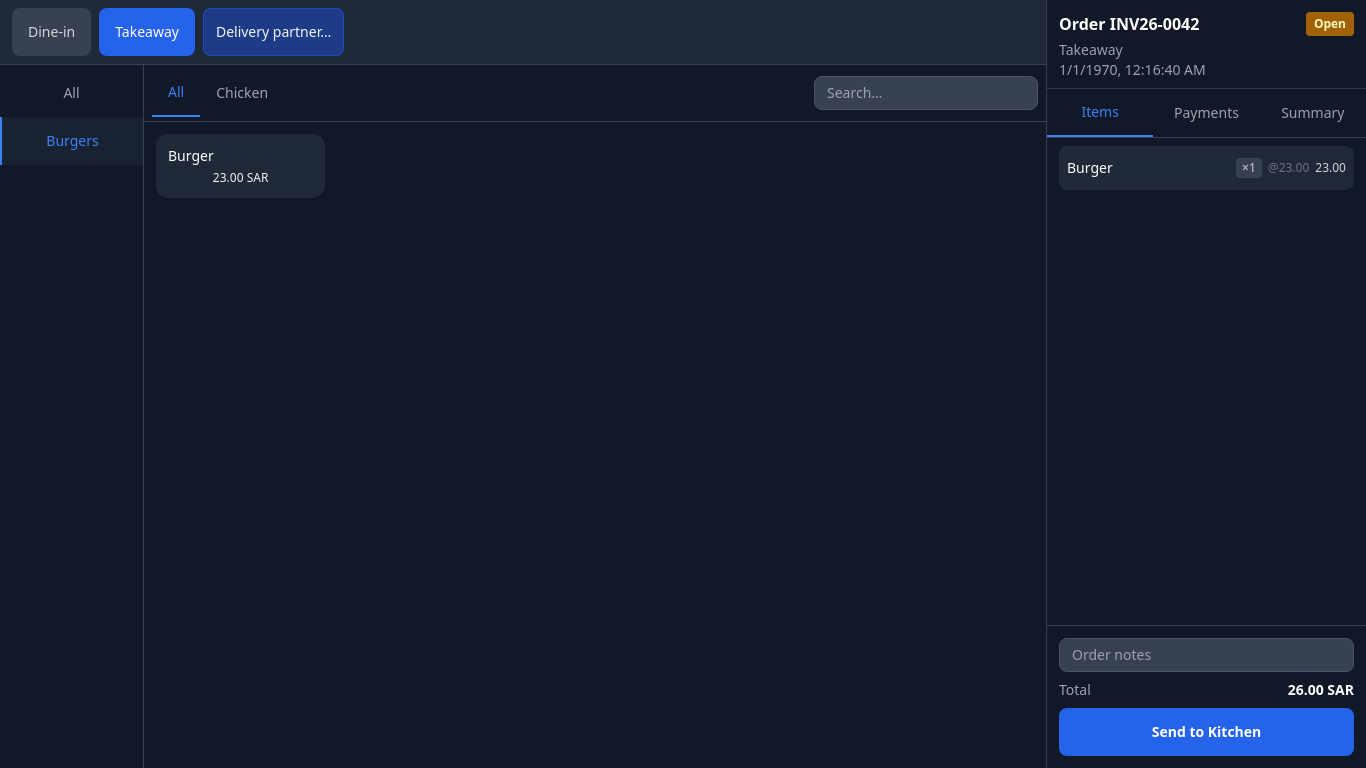
Scenario: OrderPage — type/table switch on open orders (#109) › open clean order: Dine-in opens picker, selecting free table PATCHes dine_in + tableId and closes picker
The width and height of the screenshot is (1366, 768).
Expected: the heading "Order INV26-0042" is shown, [1059,12,1199,36]
Switch to dine-in: opens the picker without PATCHing yet
What coordinates should you click on to do the following:
click the button "Dine-in"
I would click on:
 (52, 32)
Its box is [12,8,91,56].
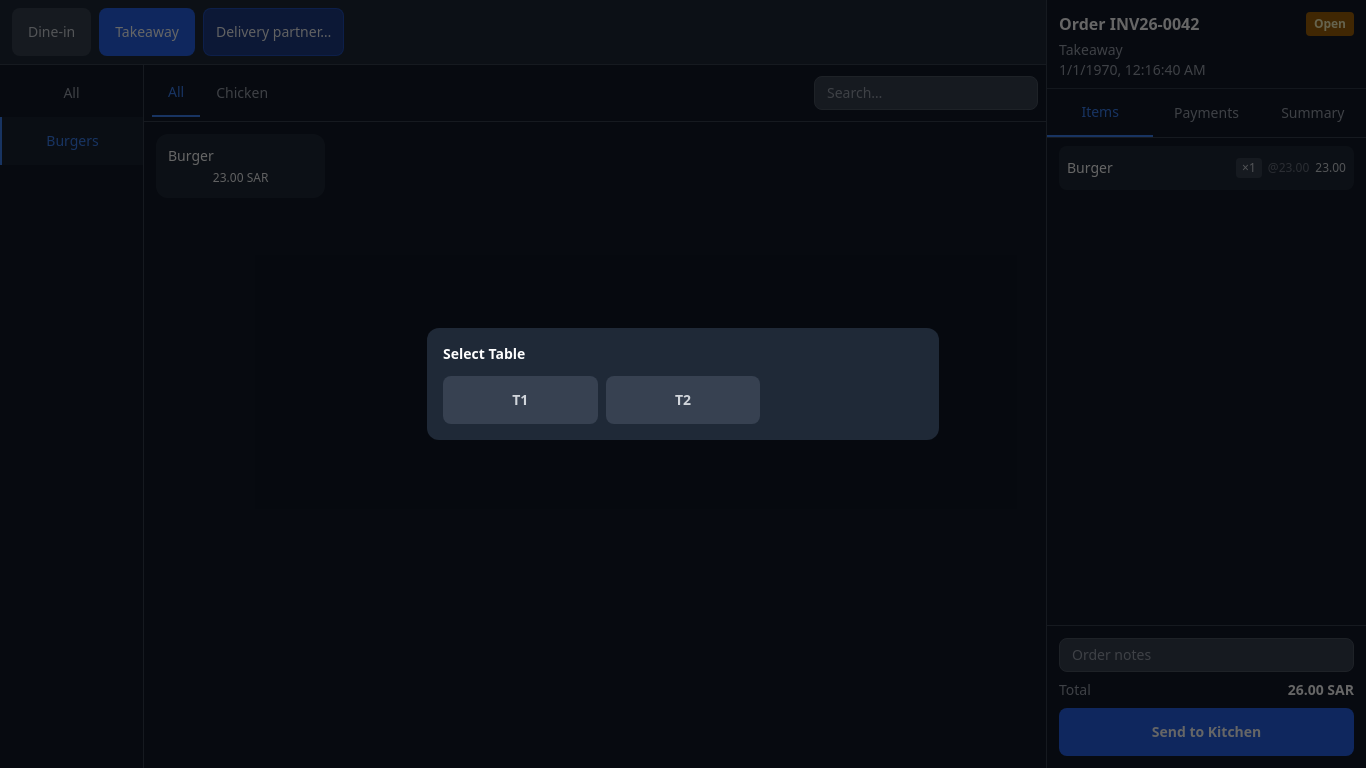
Result: the heading "Select Table" is shown at [443,344,525,363]
Pick T2 (free)
What coordinates should you click on to do the following:
click the button "T2"
I would click on:
 (683, 400)
Its box is [606,376,760,424].
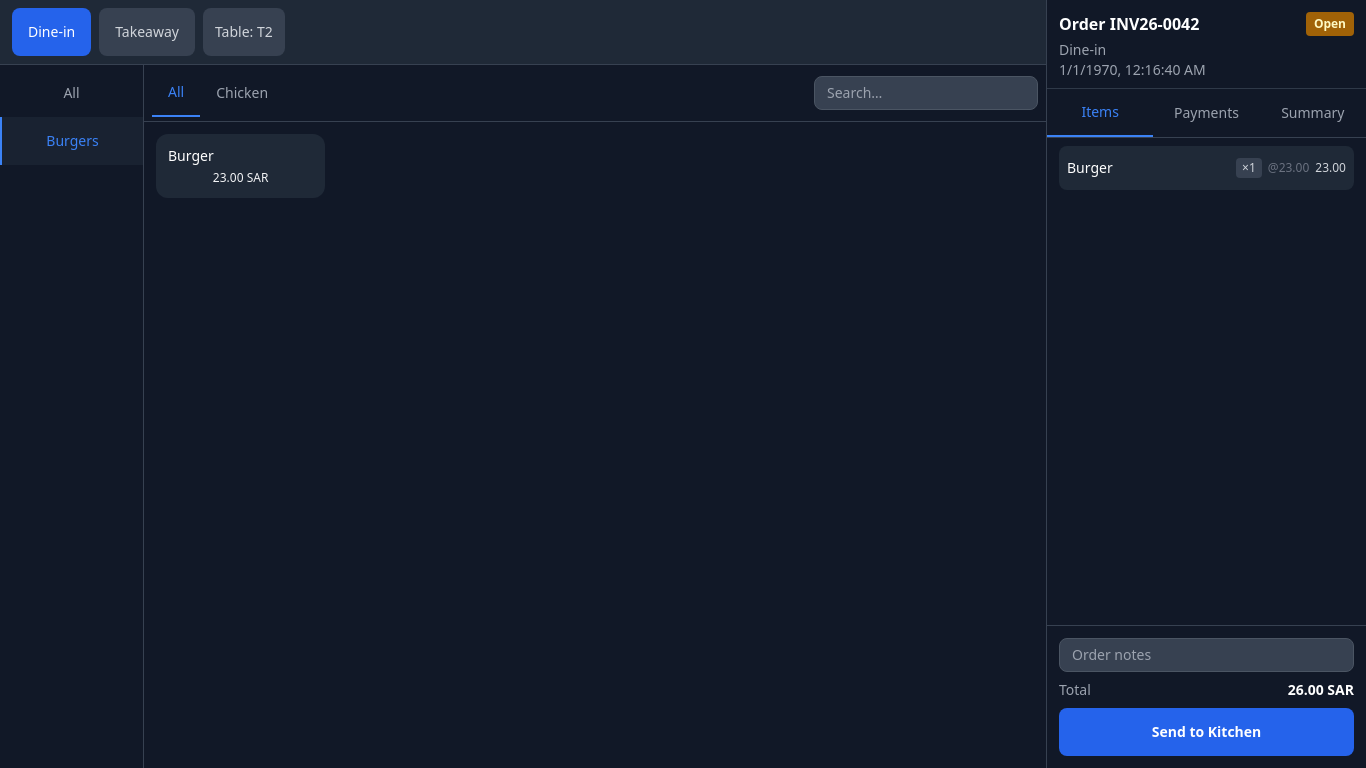
Result: the heading "Select Table" is gone
Result: the button "Table: T2" is shown at [203,8,285,56]
